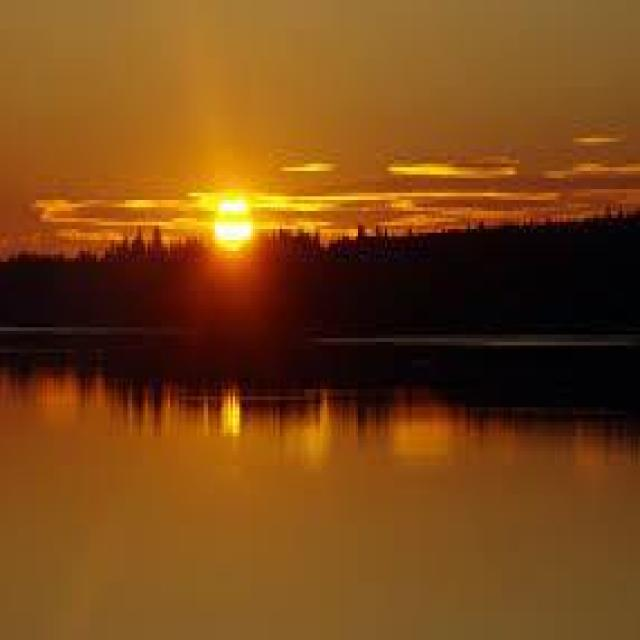other: (209, 170, 253, 272)
